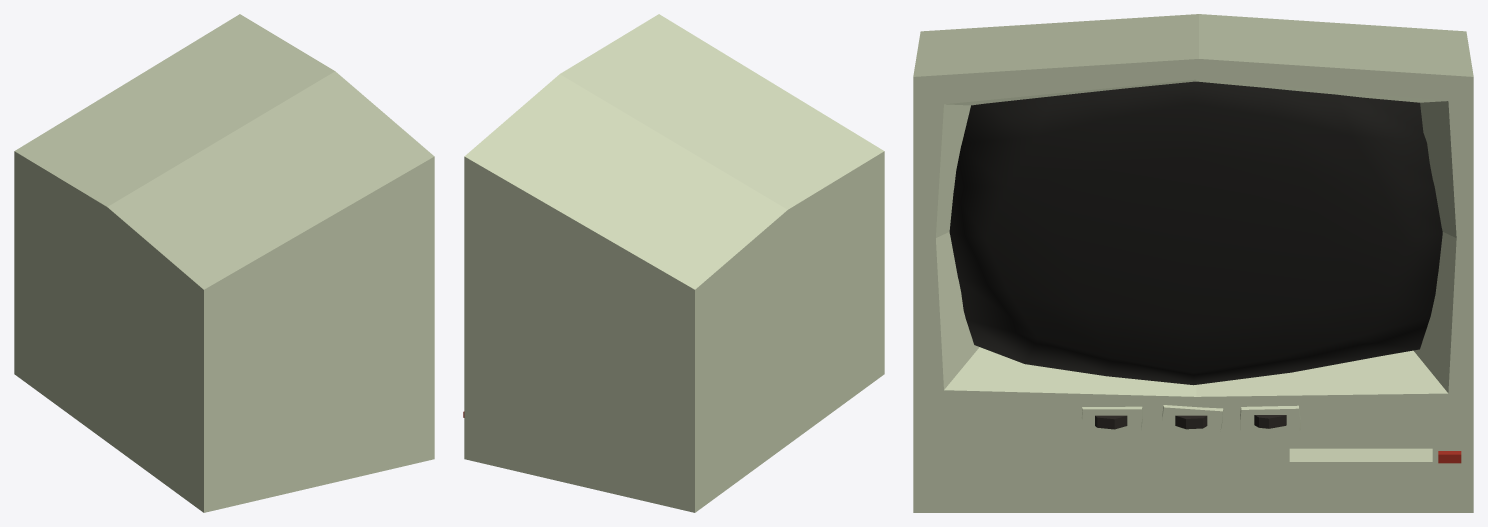
File: Terminal_Main.fbx
3 views of the same model, side by side, from view 1: azimuth 30°, elevation 25°; view 2: azimuth 150°, elevation 25°; view 3: azimuth 270°, elevation 25° (orthographic). The views are drawn at different scales.
Visible parts, largest first — view 1: Terminal_Body; view 2: Terminal_Body; view 3: Terminal_Body, Terminal_Screen.
Part boxes in pixels (x1,y1,x2,y2): Terminal_Body: (14, 14, 434, 512); Terminal_Body: (464, 14, 884, 512); Terminal_Body: (913, 14, 1473, 512); Terminal_Screen: (949, 81, 1442, 385).
Size of the model in its own units: 98.08 by 68.76 by 87.67.
